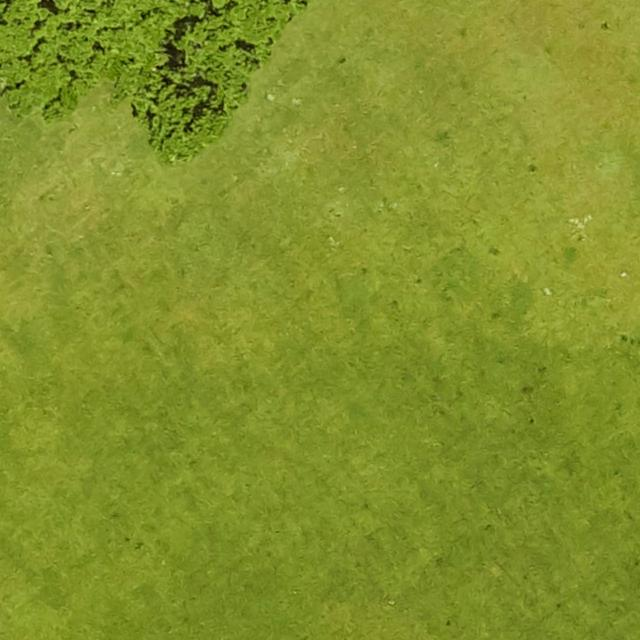tree: (138, 70, 225, 151), (179, 16, 266, 81)
